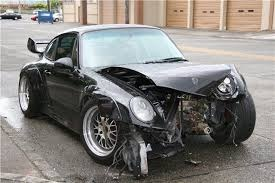Scratch: (80, 83, 117, 112)
Smashed: (119, 69, 244, 171)
